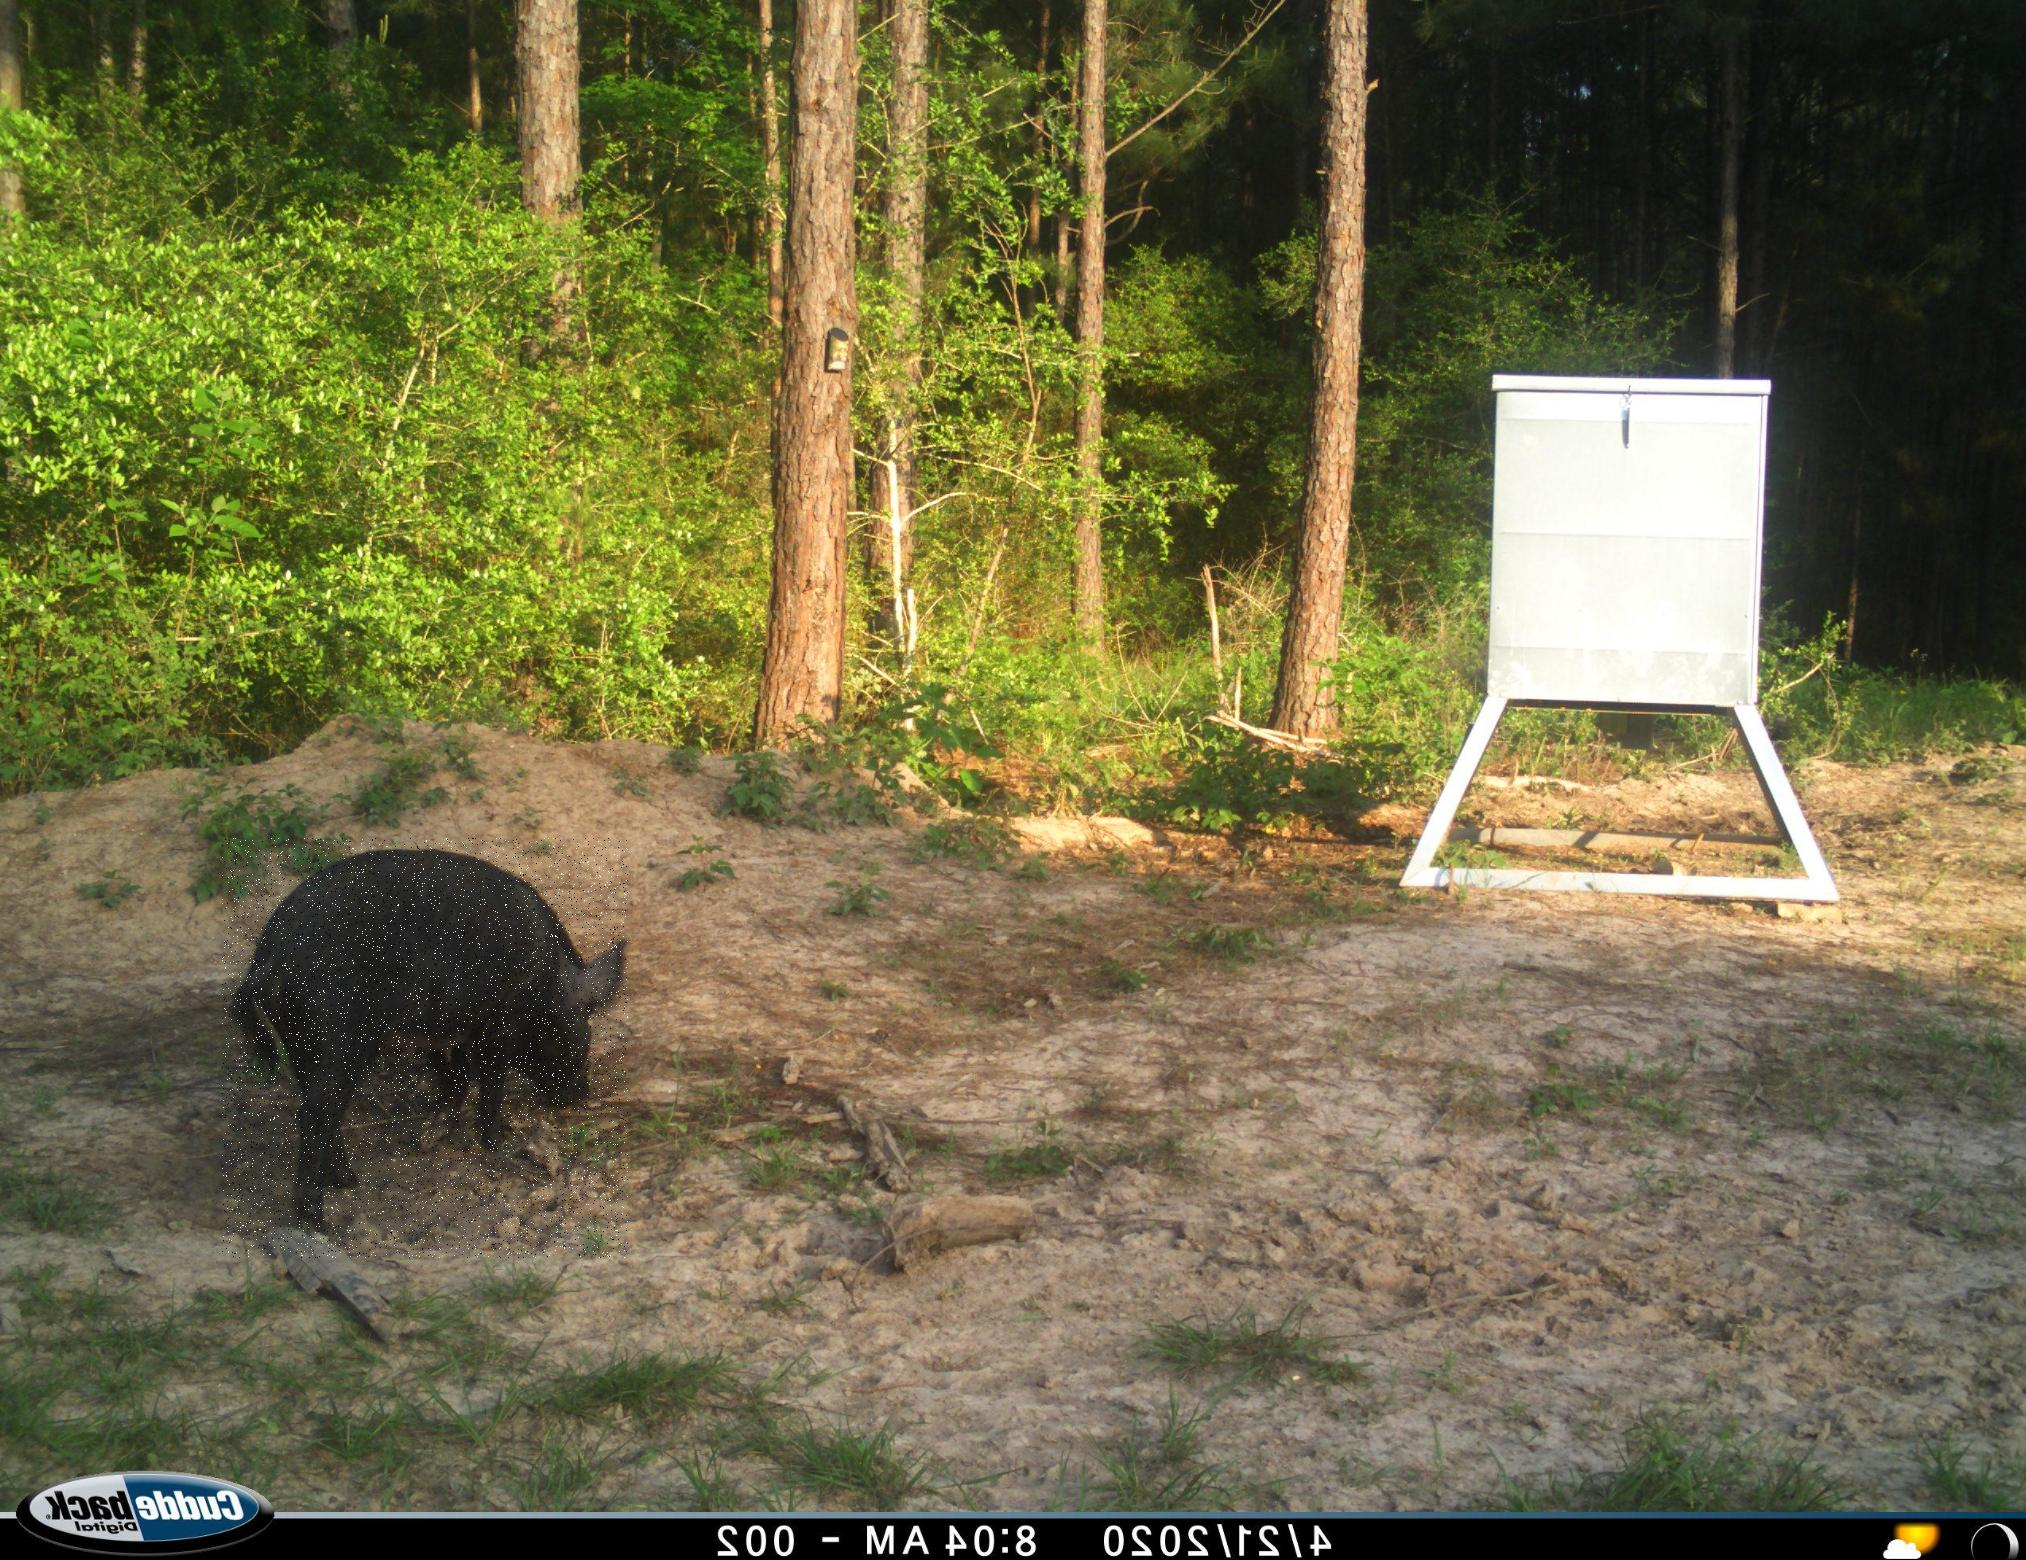Hog: (221, 839, 629, 1258)
